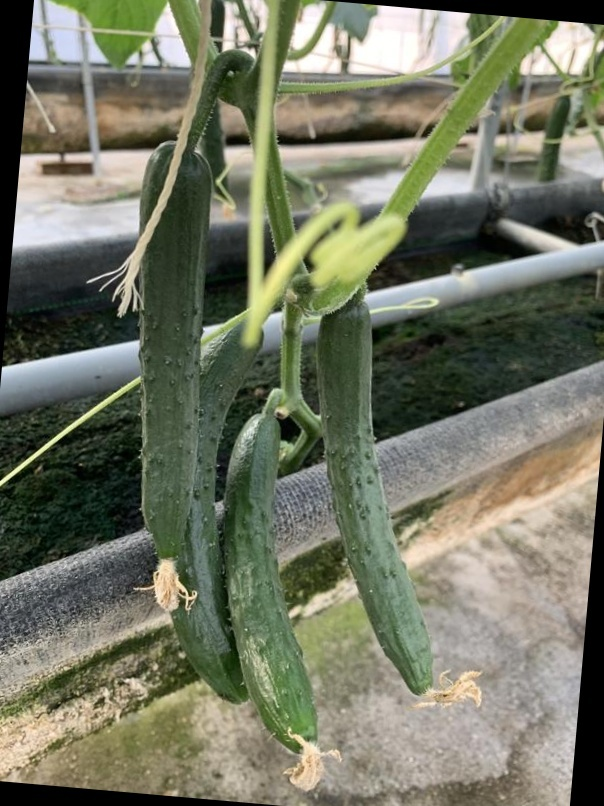mature: (311, 300, 440, 695), (132, 134, 216, 580), (223, 409, 322, 758)
